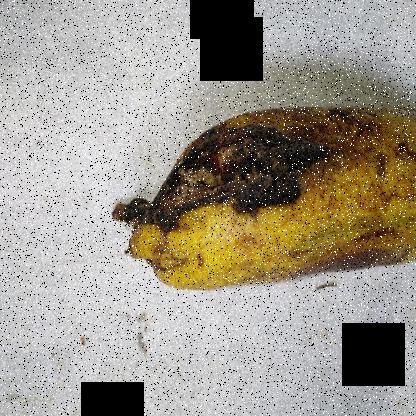ripe: (302, 70, 415, 300)
rotten: (122, 97, 332, 288)
